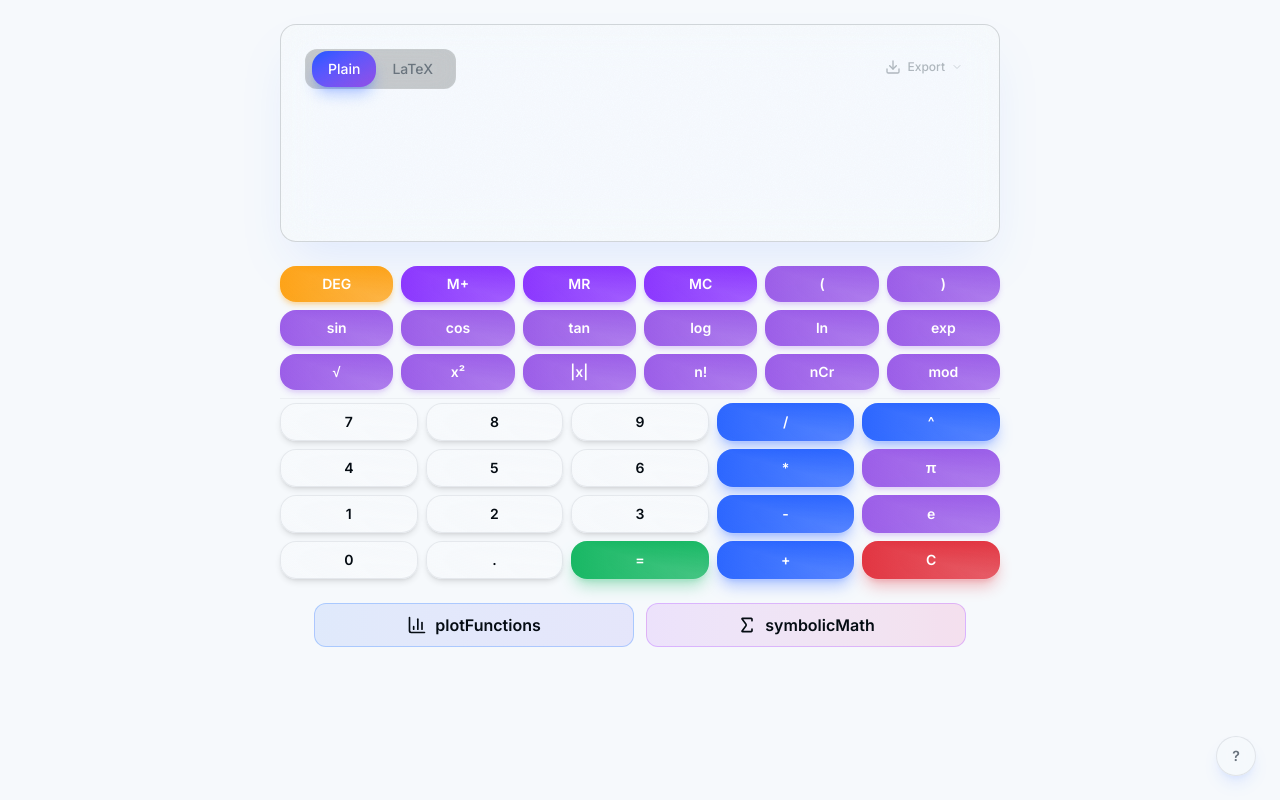
Test: Calculator UI flow (compute engine mocked) › completes full calculation workflow: input → evaluate → history
The width and height of the screenshot is (1280, 800).
Input expression
Click the cell "5": click(494, 468) [426,449,563,487]
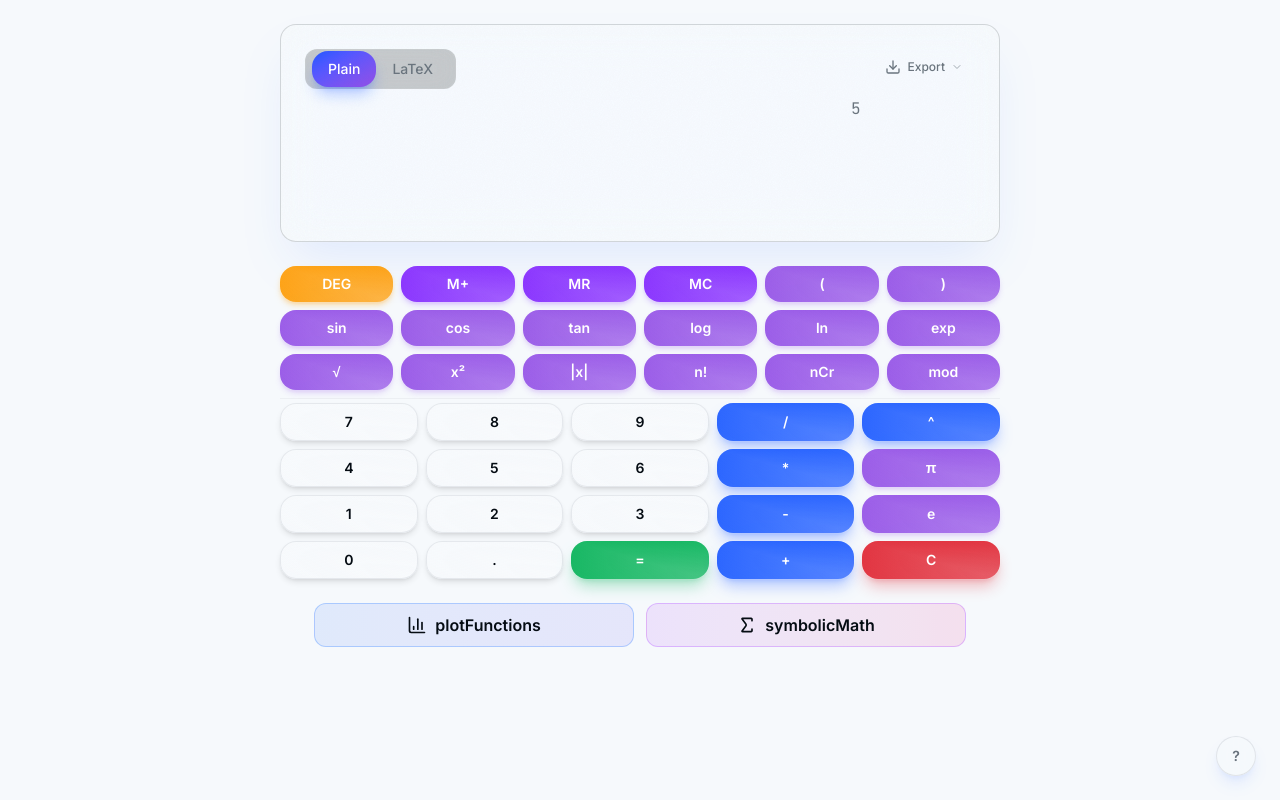
Click the cell named "plus": click(786, 560) [717,541,854,579]
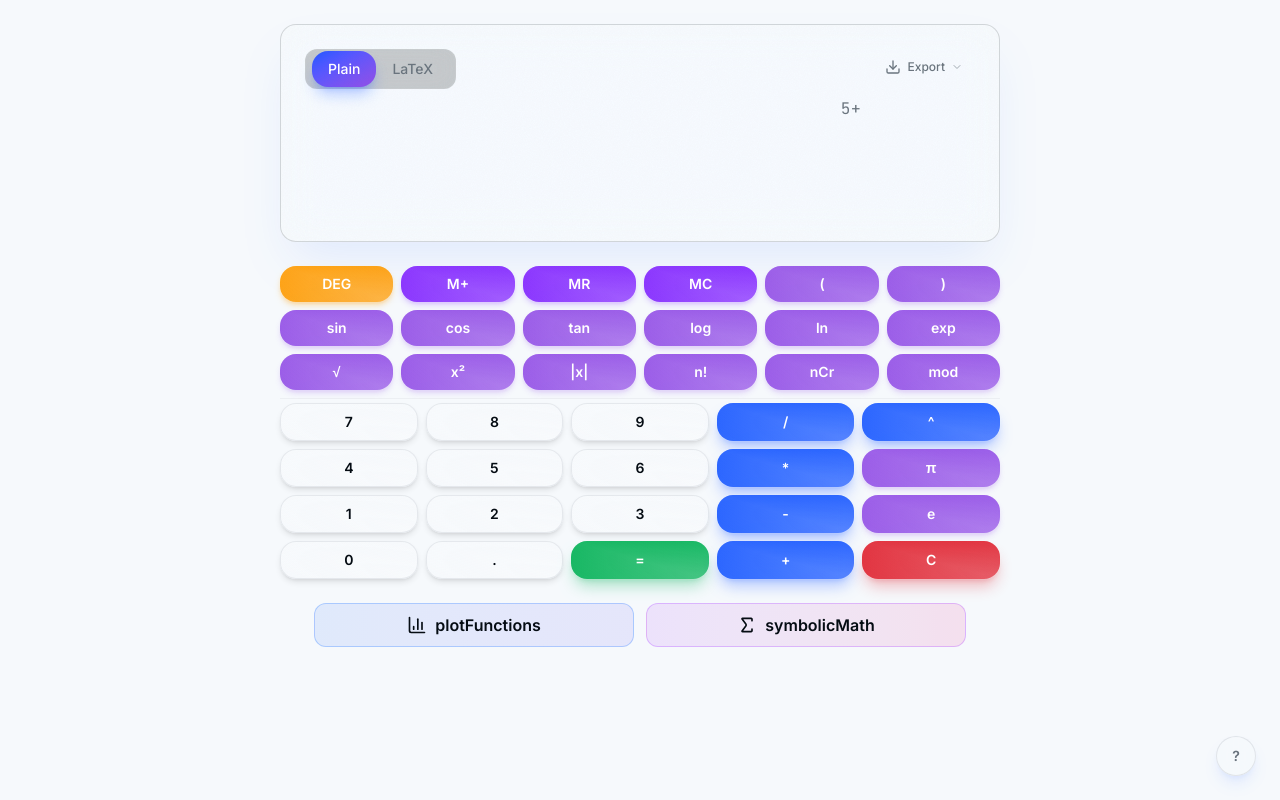
Click the cell "3": click(640, 514) [571,495,709,533]
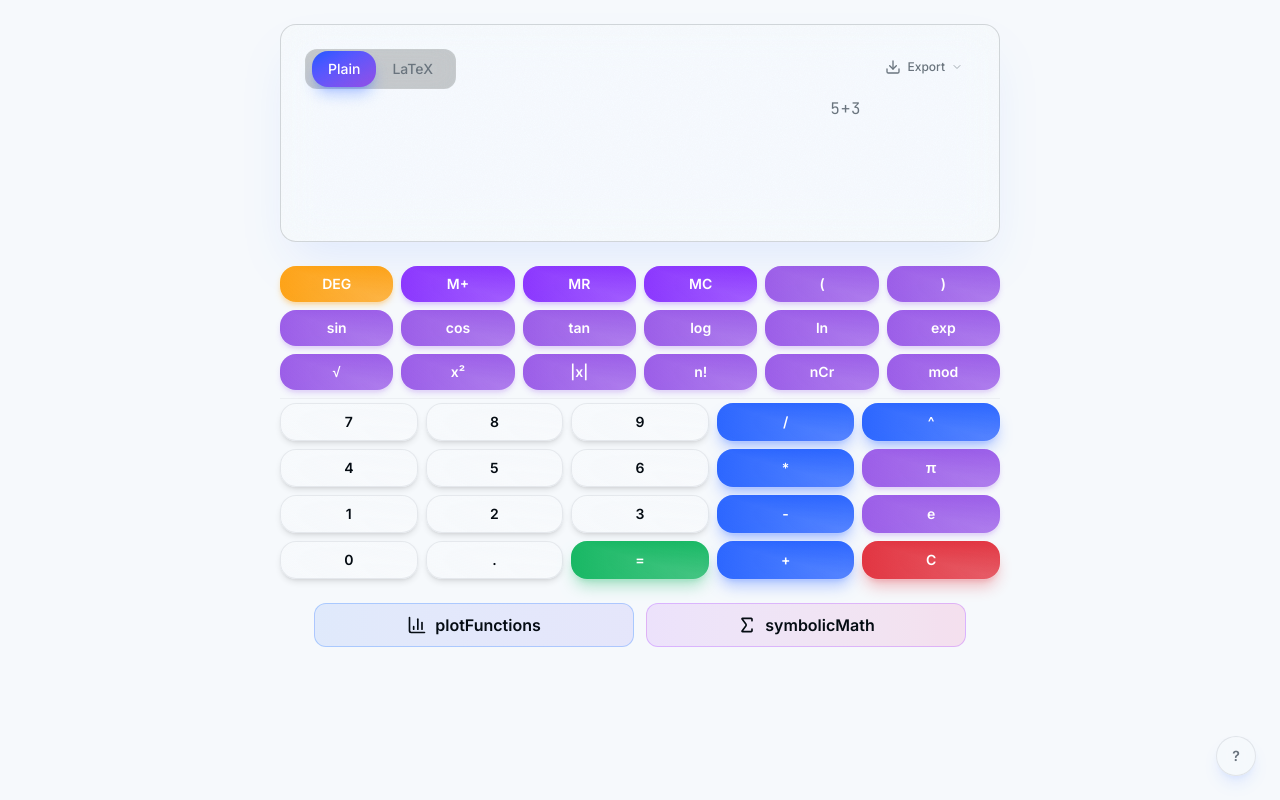
Check: the message named "current expression" reads "5+3", box [830,98,862,119]
Click the cell named "equals": click(640, 560) [571,541,709,579]
(page scrolled)
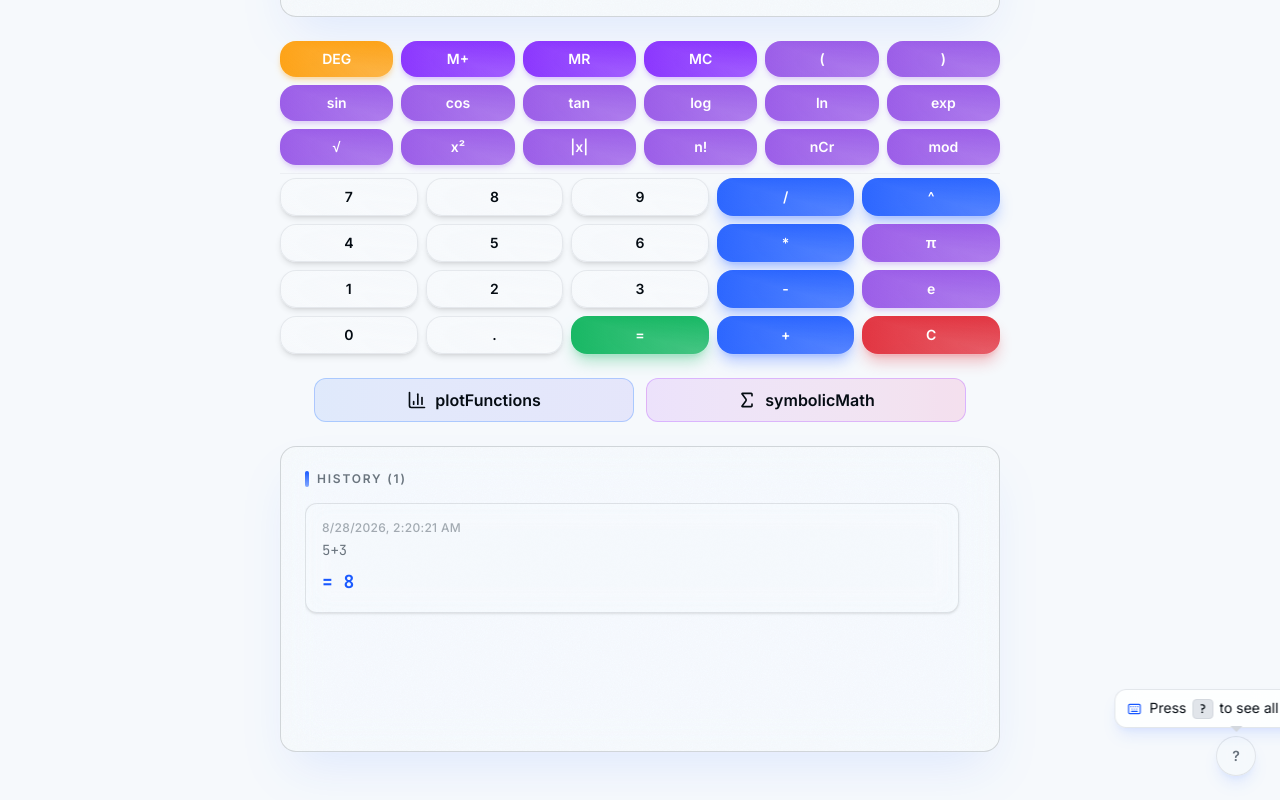
Check: the heading "History (1)" is shown, box [305,471,407,487]
Check: the text "= 8" is shown, box [322,568,942,596]
